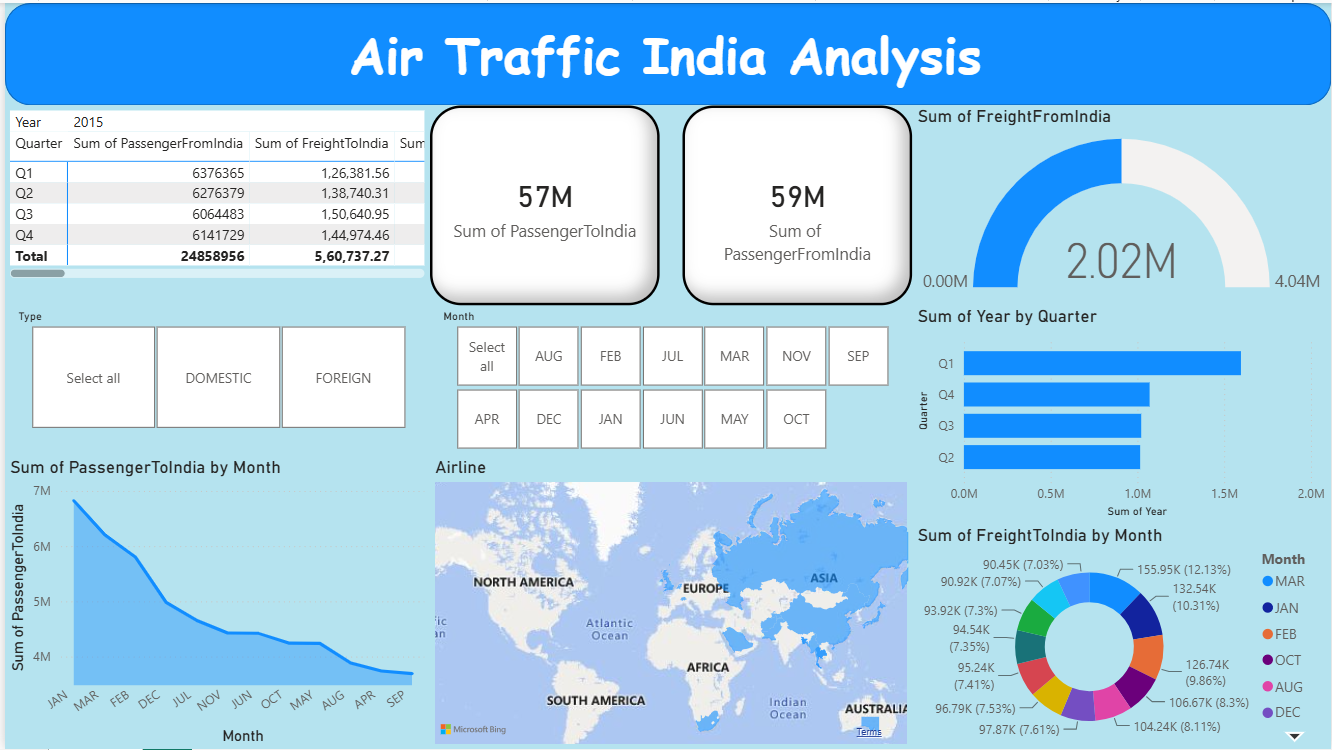

This screenshot's page, from the dashboard's own definition file:
{"tool":"powerbi","page":{"name":"Page 1","canvas":[1280,720],"ordinal":0},"visuals":[{"type":"shape","box":[0,0,1280,98.8],"z":0},{"type":"textbox","box":[326.5,11,629.8,79.5],"z":1000},{"type":"donutChart","fields":{"Category":["AirTrafficIndia_Cleaned.Month"],"Y":["Sum(AirTrafficIndia_Cleaned.FreightToIndia)"]},"box":[876.2,502.5,403.8,217.5],"z":2000},{"type":"barChart","fields":{"Y":["Sum(AirTrafficIndia_Cleaned.Year)"],"Category":["AirTrafficIndia_Cleaned.Quarter"]},"box":[876.2,292.5,403.8,210],"z":3000},{"type":"gauge","fields":{"Y":["Sum(AirTrafficIndia_Cleaned.FreightFromIndia)"]},"box":[876.2,98.8,403.8,193.8],"z":4000},{"type":"card","fields":{"Values":["Sum(AirTrafficIndia_Cleaned.PassengerFromIndia)"]},"box":[653.9,98.9,222,193],"z":5000},{"type":"card","fields":{"Values":["Sum(AirTrafficIndia_Cleaned.PassengerToIndia)"]},"box":[410.2,98.9,222,193],"z":6000},{"type":"filledMap","fields":{"Category":["AirTrafficIndia_Cleaned.Airline"]},"box":[410,437.5,466.2,282.5],"z":7000},{"type":"areaChart","fields":{"Category":["AirTrafficIndia_Cleaned.Month"],"Y":["Sum(AirTrafficIndia_Cleaned.PassengerToIndia)"]},"box":[0,437.5,410,282.5],"z":8000},{"type":"slicer","fields":{"Values":["AirTrafficIndia_Cleaned.Month"]},"box":[410,291.2,466.2,146.2],"z":9000},{"type":"pivotTable","fields":{"Rows":["AirTrafficIndia_Cleaned.Quarter"],"Values":["Sum(AirTrafficIndia_Cleaned.PassengerFromIndia)","Sum(AirTrafficIndia_Cleaned.FreightToIndia)","Sum(AirTrafficIndia_Cleaned.FreightFromIndia)","Sum(AirTrafficIndia_Cleaned.PassengerToIndia)"],"Columns":["AirTrafficIndia_Cleaned.Year"]},"box":[0,98.8,410,171.2],"z":10000},{"type":"slicer","fields":{"Values":["AirTrafficIndia_Cleaned.Type"]},"box":[0,291.2,410,126.2],"z":11000}]}

Visuals, with their boxes in screenshot pixels (x1, y1, x2, y2), scaled from the page's 1280x720 canvas onto the 1332x750 screenshot:
shape: (0, 0, 1331, 103)
textbox: (340, 11, 995, 94)
donutChart - AirTrafficIndia_Cleaned.Month x Sum(AirTrafficIndia_Cleaned.FreightToIndia): (912, 523, 1331, 749)
barChart - Sum(AirTrafficIndia_Cleaned.Year) x AirTrafficIndia_Cleaned.Quarter: (912, 305, 1331, 523)
gauge - Sum(AirTrafficIndia_Cleaned.FreightFromIndia): (912, 103, 1331, 305)
card - Sum(AirTrafficIndia_Cleaned.PassengerFromIndia): (680, 103, 911, 304)
card - Sum(AirTrafficIndia_Cleaned.PassengerToIndia): (427, 103, 658, 304)
filledMap - AirTrafficIndia_Cleaned.Airline: (427, 456, 912, 749)
areaChart - AirTrafficIndia_Cleaned.Month x Sum(AirTrafficIndia_Cleaned.PassengerToIndia): (0, 456, 427, 749)
slicer - AirTrafficIndia_Cleaned.Month: (427, 303, 912, 456)
pivotTable - AirTrafficIndia_Cleaned.Quarter x Sum(AirTrafficIndia_Cleaned.PassengerFromIndia): (0, 103, 427, 281)
slicer - AirTrafficIndia_Cleaned.Type: (0, 303, 427, 435)
